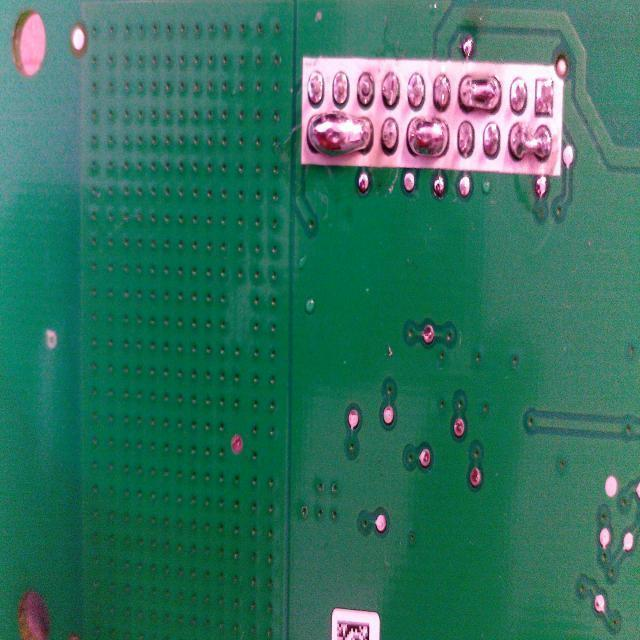Soldering shorted: (306, 110, 374, 162), (458, 67, 502, 116), (406, 112, 450, 160), (509, 121, 554, 167)
